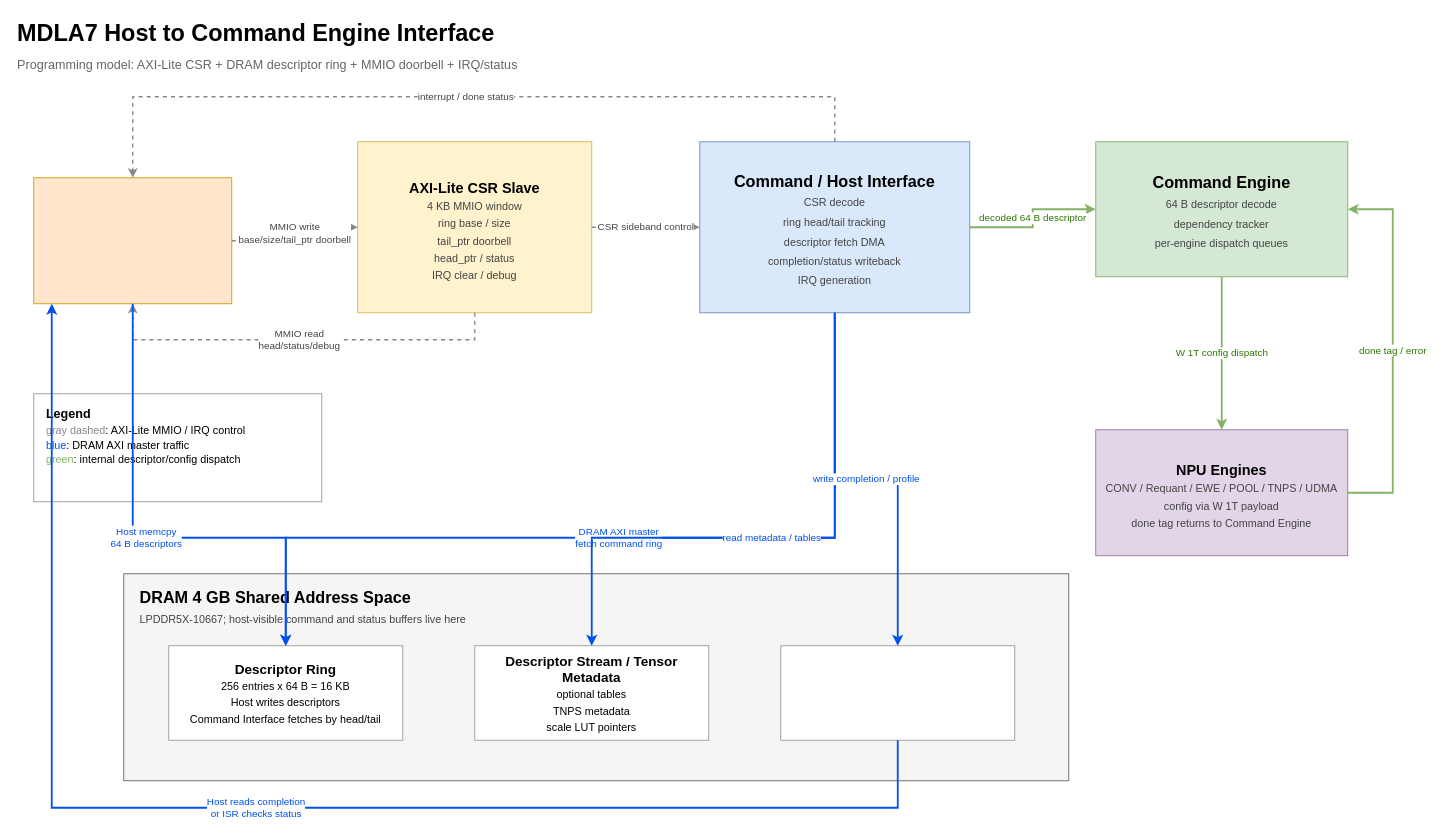
This 1442x834 diagram has some shape labels left out. The shapes that lost their labels are listed below. From the top down, each one's centre as x and y in pixels, then its label:
point 132,240: Host (RISC-V) compiler / runtime descriptor producer ISR / status polling
point 897,692: Completion / Status Buffer layer/model done error code profiling/debug data
